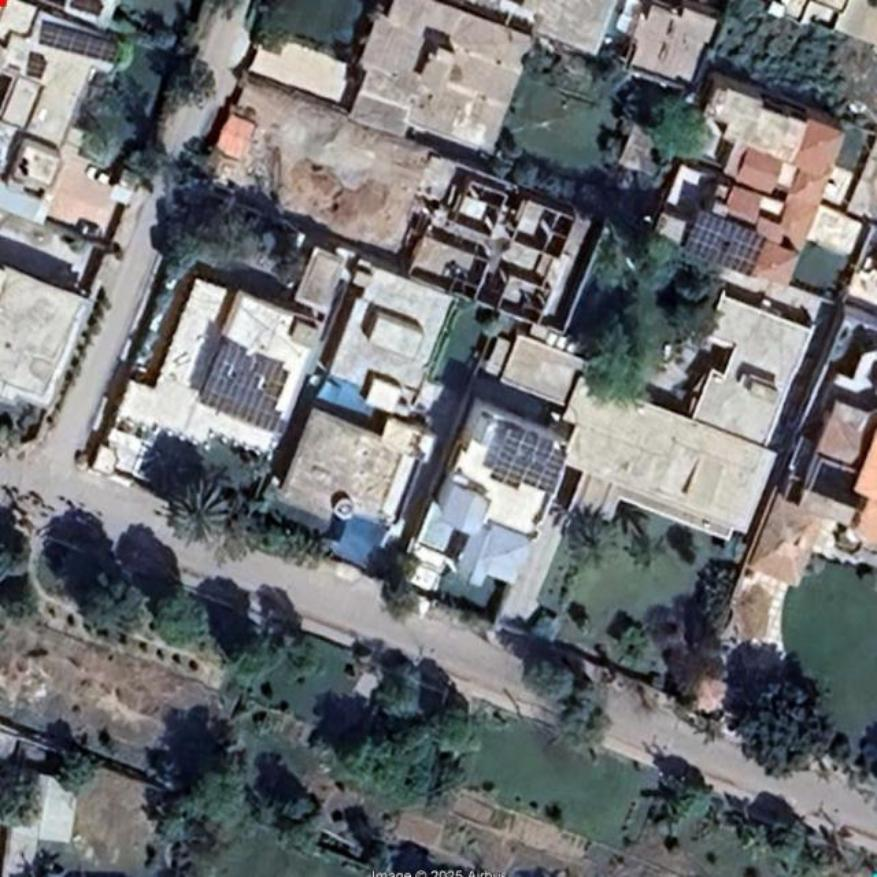Solarpanel: (196, 339, 287, 427), (684, 211, 768, 276), (493, 427, 568, 495), (39, 18, 122, 62)
